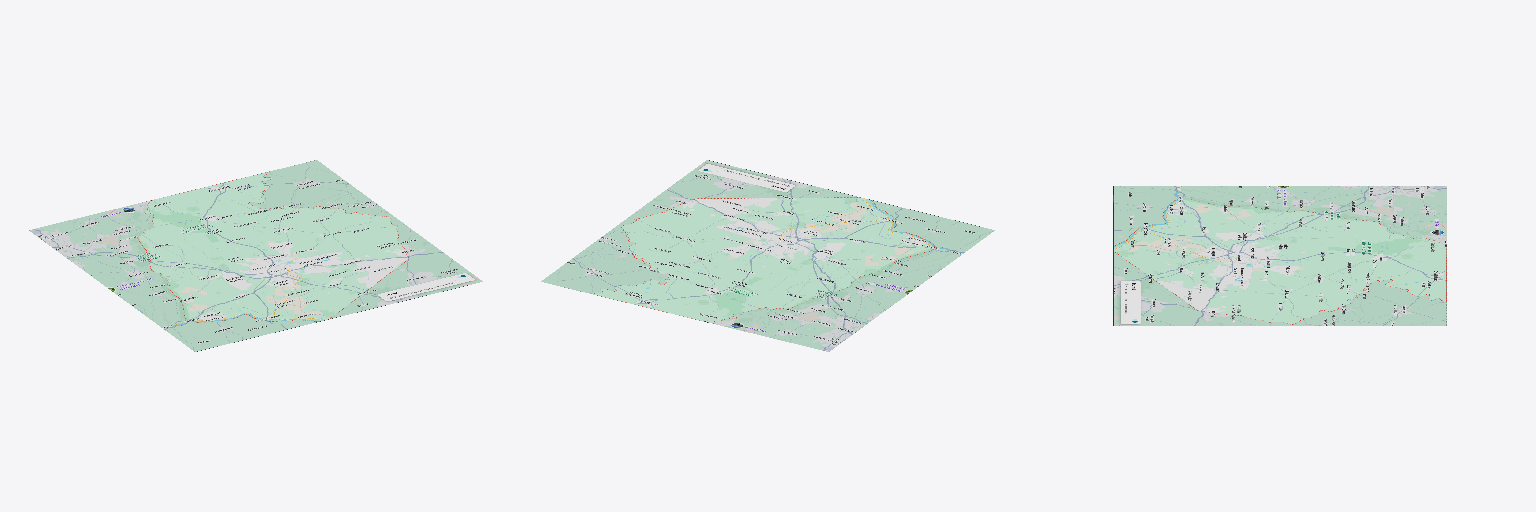
3 views of the same model, side by side, from view 1: azimuth 30°, elevation 25°; view 2: azimuth 150°, elevation 25°; view 3: azimuth 270°, elevation 25° (orthographic).
Parts seen in each view (by area): view 1: Plane; view 2: Plane; view 3: Plane.
Part boxes in pixels (x1,y1,x2,y2): Plane: (29,160,482,351); Plane: (541,160,994,351); Plane: (1113,186,1446,325).
Size of the model in its own units: 2 by 0 by 2.
1 materials, 1 textured.